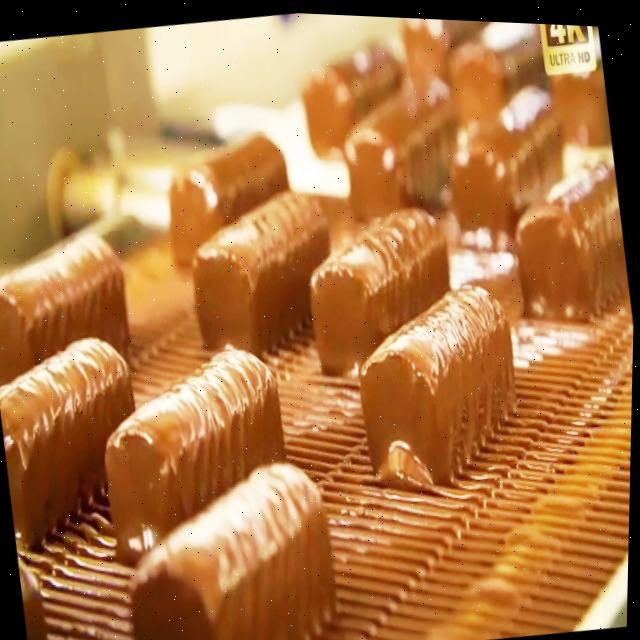Choco: (88, 325, 303, 561), (113, 443, 350, 640), (344, 264, 536, 499), (0, 338, 158, 552), (179, 171, 354, 360), (295, 189, 466, 379), (0, 218, 140, 388), (504, 152, 633, 333), (155, 117, 302, 270), (446, 99, 578, 231), (335, 100, 465, 214), (437, 15, 561, 112), (297, 48, 409, 152), (398, 14, 455, 93)
